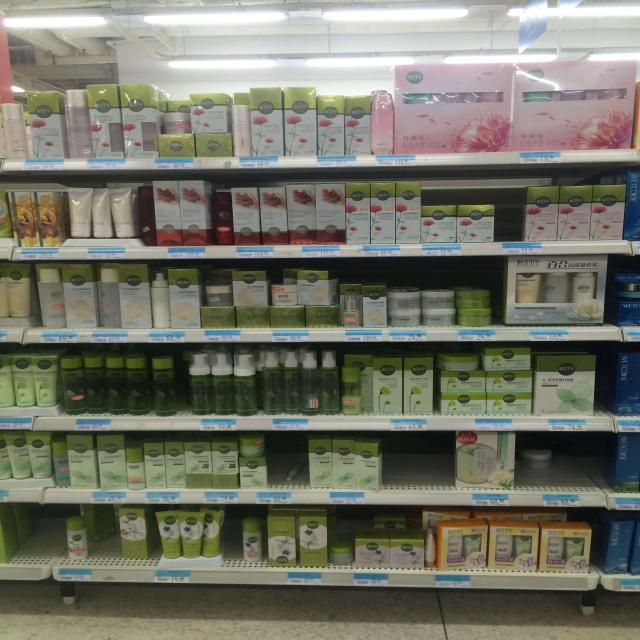empty: (383, 437, 453, 488), (552, 432, 607, 489), (18, 505, 63, 561), (268, 434, 307, 488), (497, 185, 524, 241), (223, 510, 241, 565)
